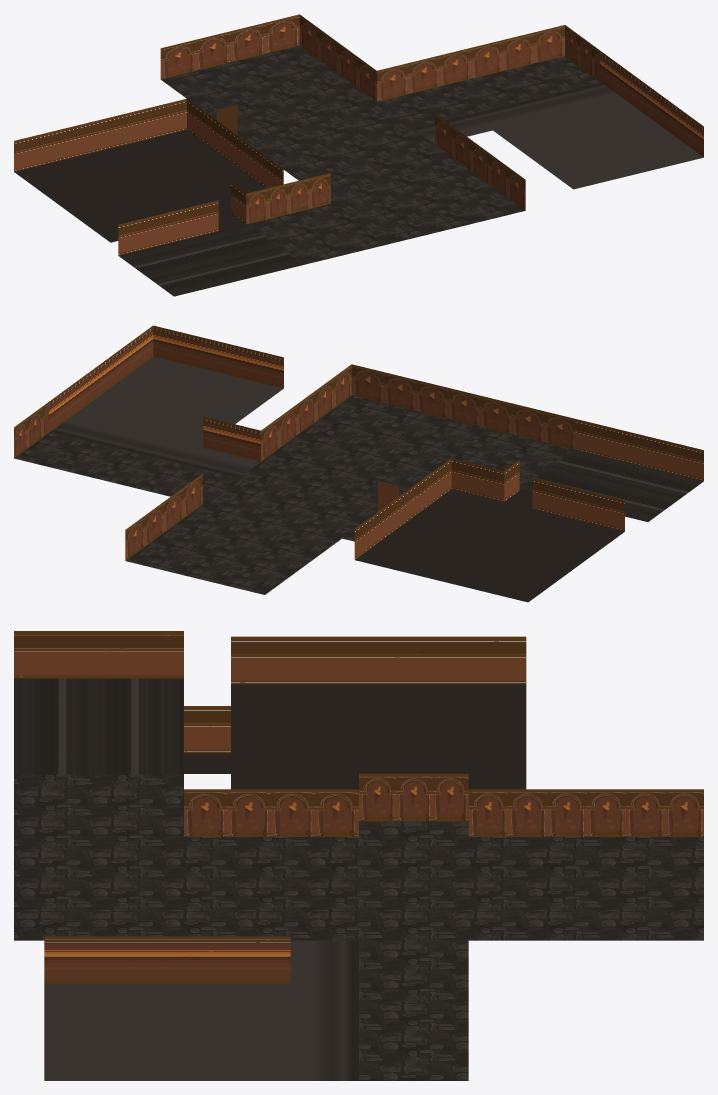
File: Test_Room.glb
3 views of the same model, one above another, from view 1: azimuth 30°, elevation 25°; view 2: azimuth 150°, elevation 25°; view 3: azimuth 270°, elevation 25° (orthographic). The views are drawn at different scales.
Parts seen in each view (by area): view 1: Floor, Walls; view 2: Floor, Walls; view 3: Floor, Walls.
Part boxes in pixels (box(x1,y1,x2,y2)): Floor: box(14, 45, 703, 296); Walls: box(14, 14, 703, 255); Floor: box(14, 356, 703, 602); Walls: box(14, 325, 703, 560); Floor: box(14, 678, 703, 1080); Walls: box(14, 631, 703, 983).
Size of the model in its own units: 41.21 by 2.27 by 29.86.
2 materials, 2 textured.
